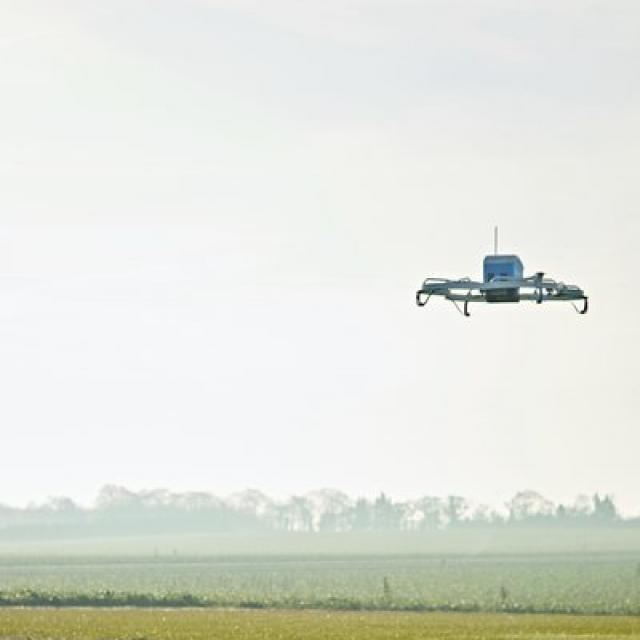drone: (400, 233, 608, 328)
